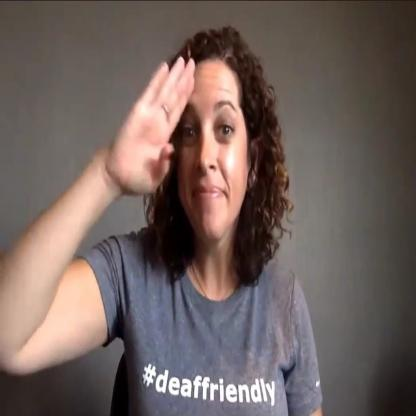Hello: (77, 2, 276, 294)
